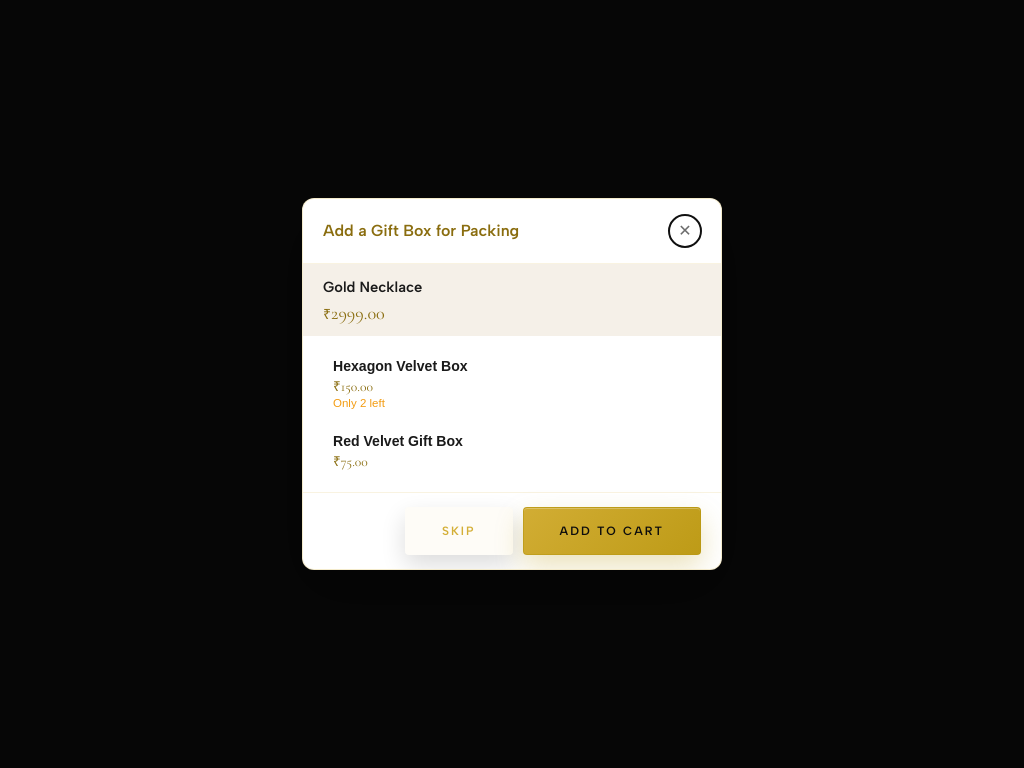
GiftBoxModal › shows Add to Cart with extra cost when boxes are selected
The image size is (1024, 768).
Click the text "Hexagon Velvet Box" at (400, 366), box [333,358,468,374]
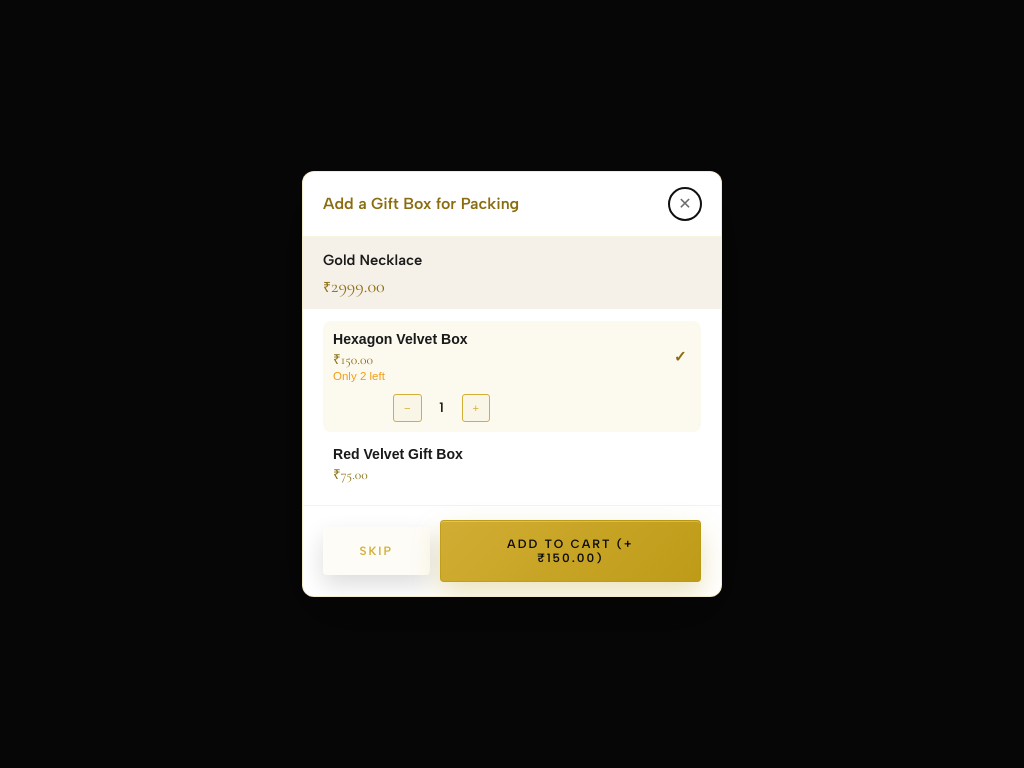
Expected: the button "Add to Cart (+₹150.00)" is shown, [440,520,701,582]
